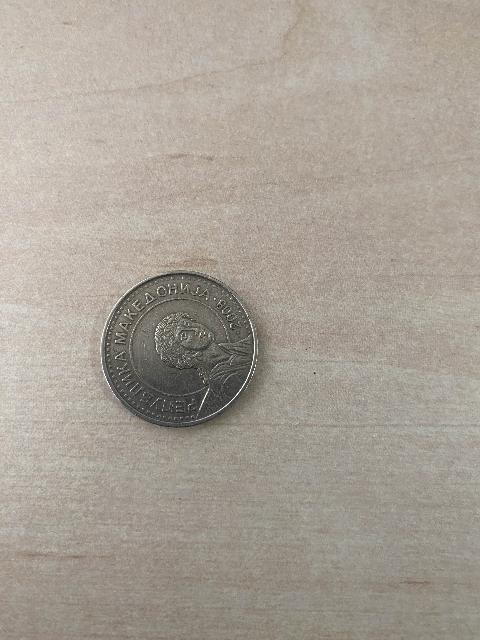coin: (105, 274, 253, 421)
